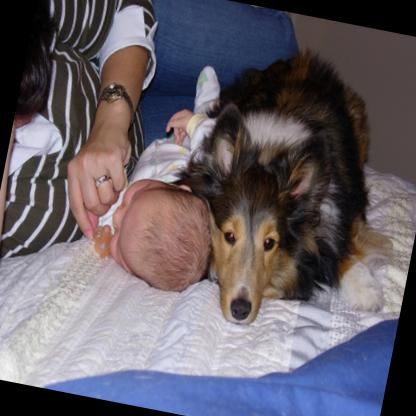Shetland_sheepdog: (150, 25, 416, 352)
